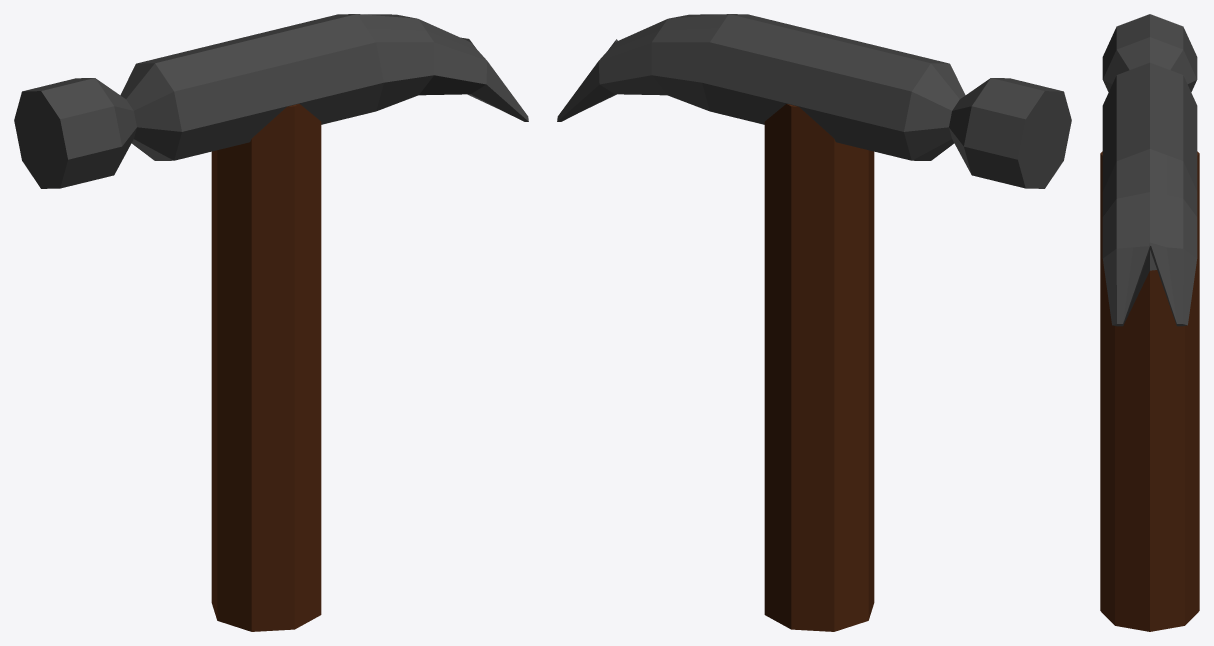
Rendered from Hammer.fbx.
3 views of the same model, side by side, from view 1: azimuth 30°, elevation 25°; view 2: azimuth 150°, elevation 25°; view 3: azimuth 270°, elevation 25° (orthographic). The views are drawn at different scales.
Visible parts, largest first — view 1: Hammer; view 2: Hammer; view 3: Hammer.
Boxes of the visible parts, x1=… form: Hammer: x1=14, y1=14, x2=528, y2=631; Hammer: x1=557, y1=14, x2=1071, y2=631; Hammer: x1=1100, y1=14, x2=1199, y2=631.
Size of the model in its own units: 30.05 by 35.11 by 6.3.
